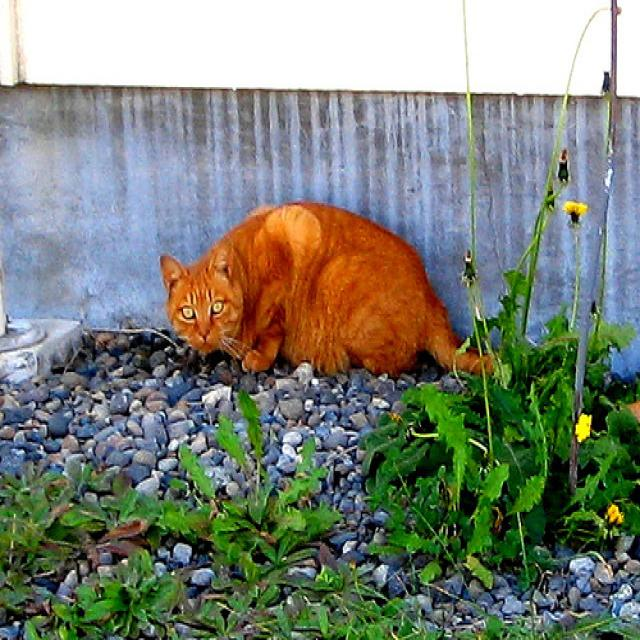left eye: (209, 297, 224, 316)
